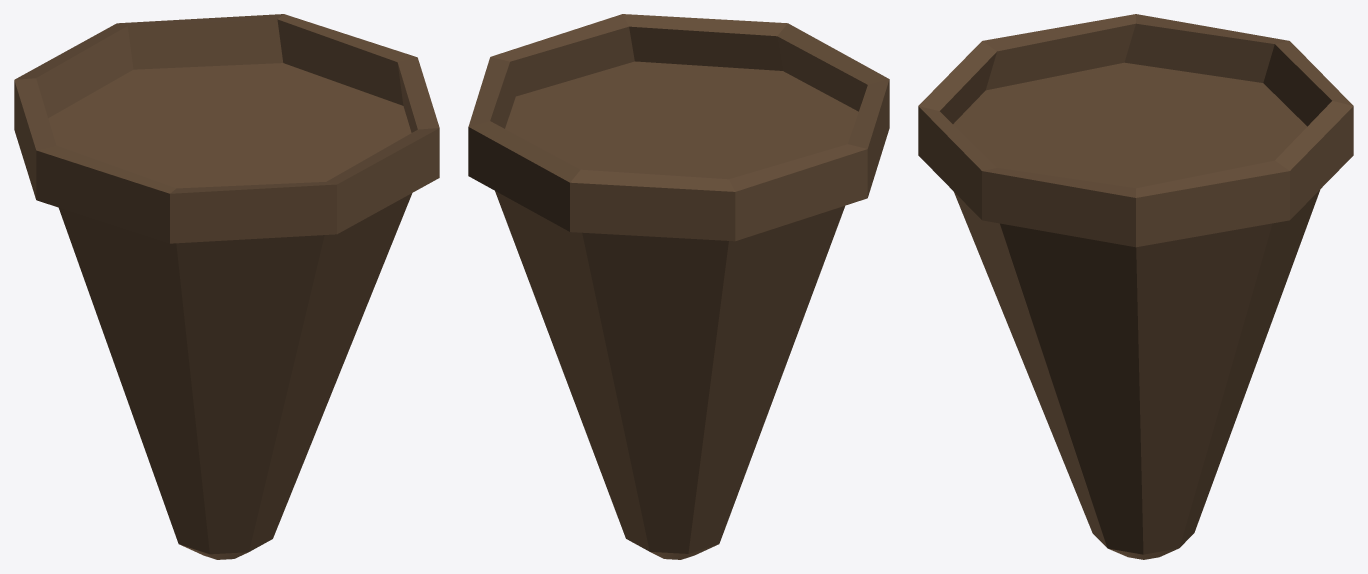
The model's file is WallTorch.fbx.
3 views of the same model, side by side, from view 1: azimuth 30°, elevation 25°; view 2: azimuth 150°, elevation 25°; view 3: azimuth 270°, elevation 25° (orthographic).
Parts seen in each view (by area): view 1: polySurface2; view 2: polySurface2; view 3: polySurface2.
Part boxes in pixels (left/top/right/bottom): polySurface2: left=14, top=14, right=439, bottom=559; polySurface2: left=468, top=14, right=889, bottom=559; polySurface2: left=918, top=14, right=1353, bottom=559.
Size of the model in its own units: 22.49 by 25.64 by 22.49.
